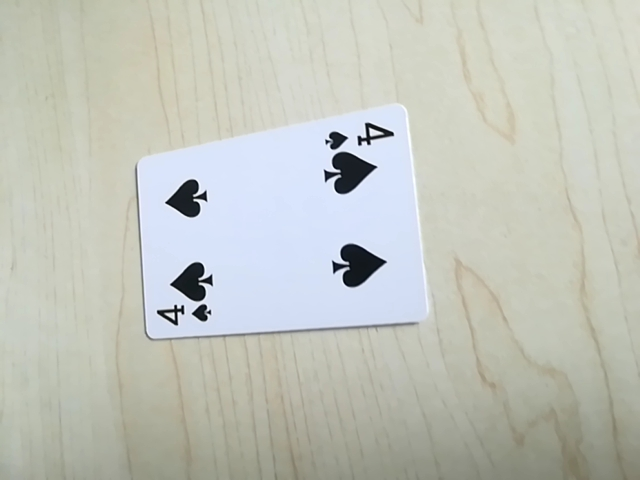ht 4: (324, 117, 397, 153), (150, 297, 217, 332)
